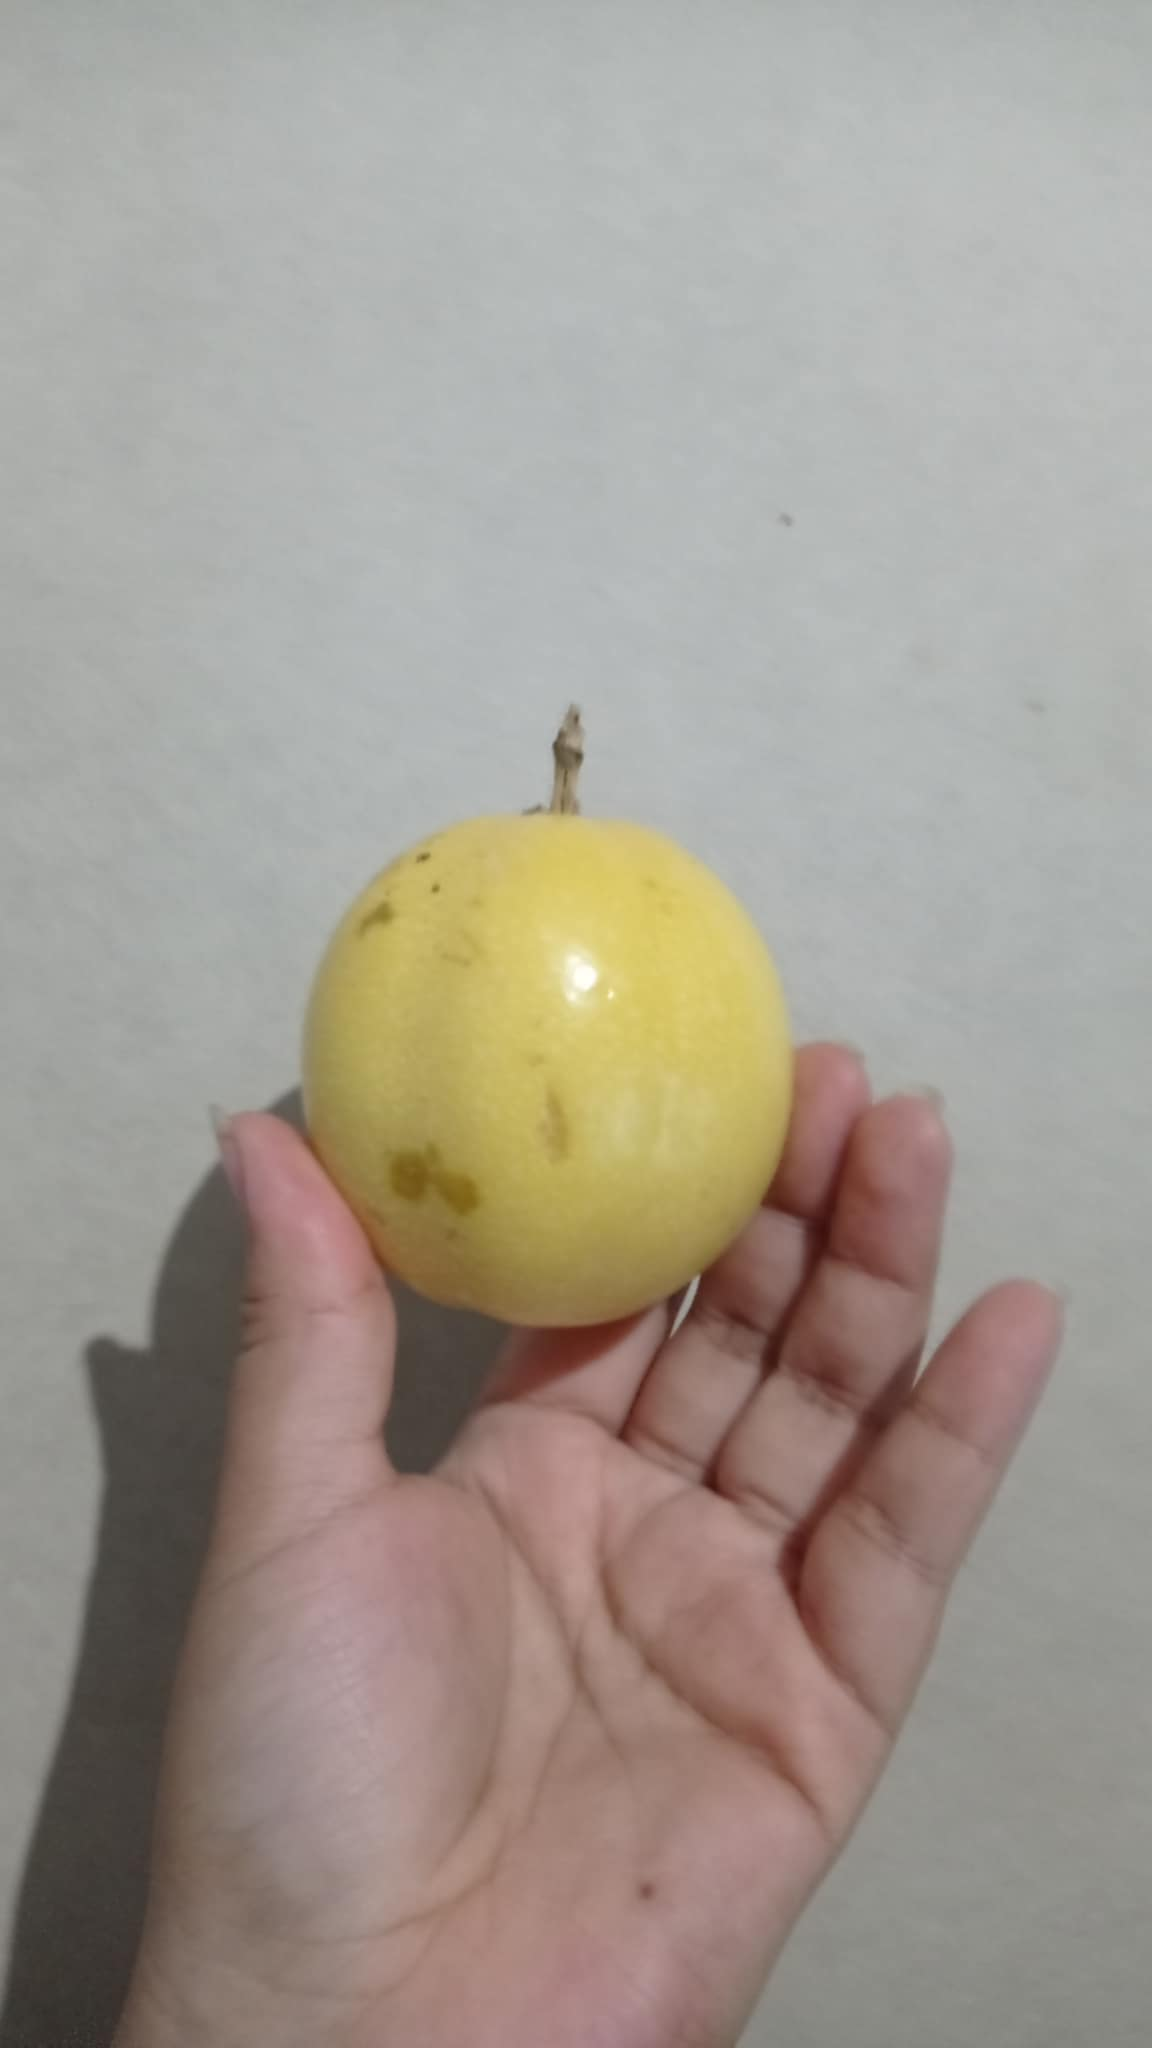maracuya: (288, 663, 817, 1369)
